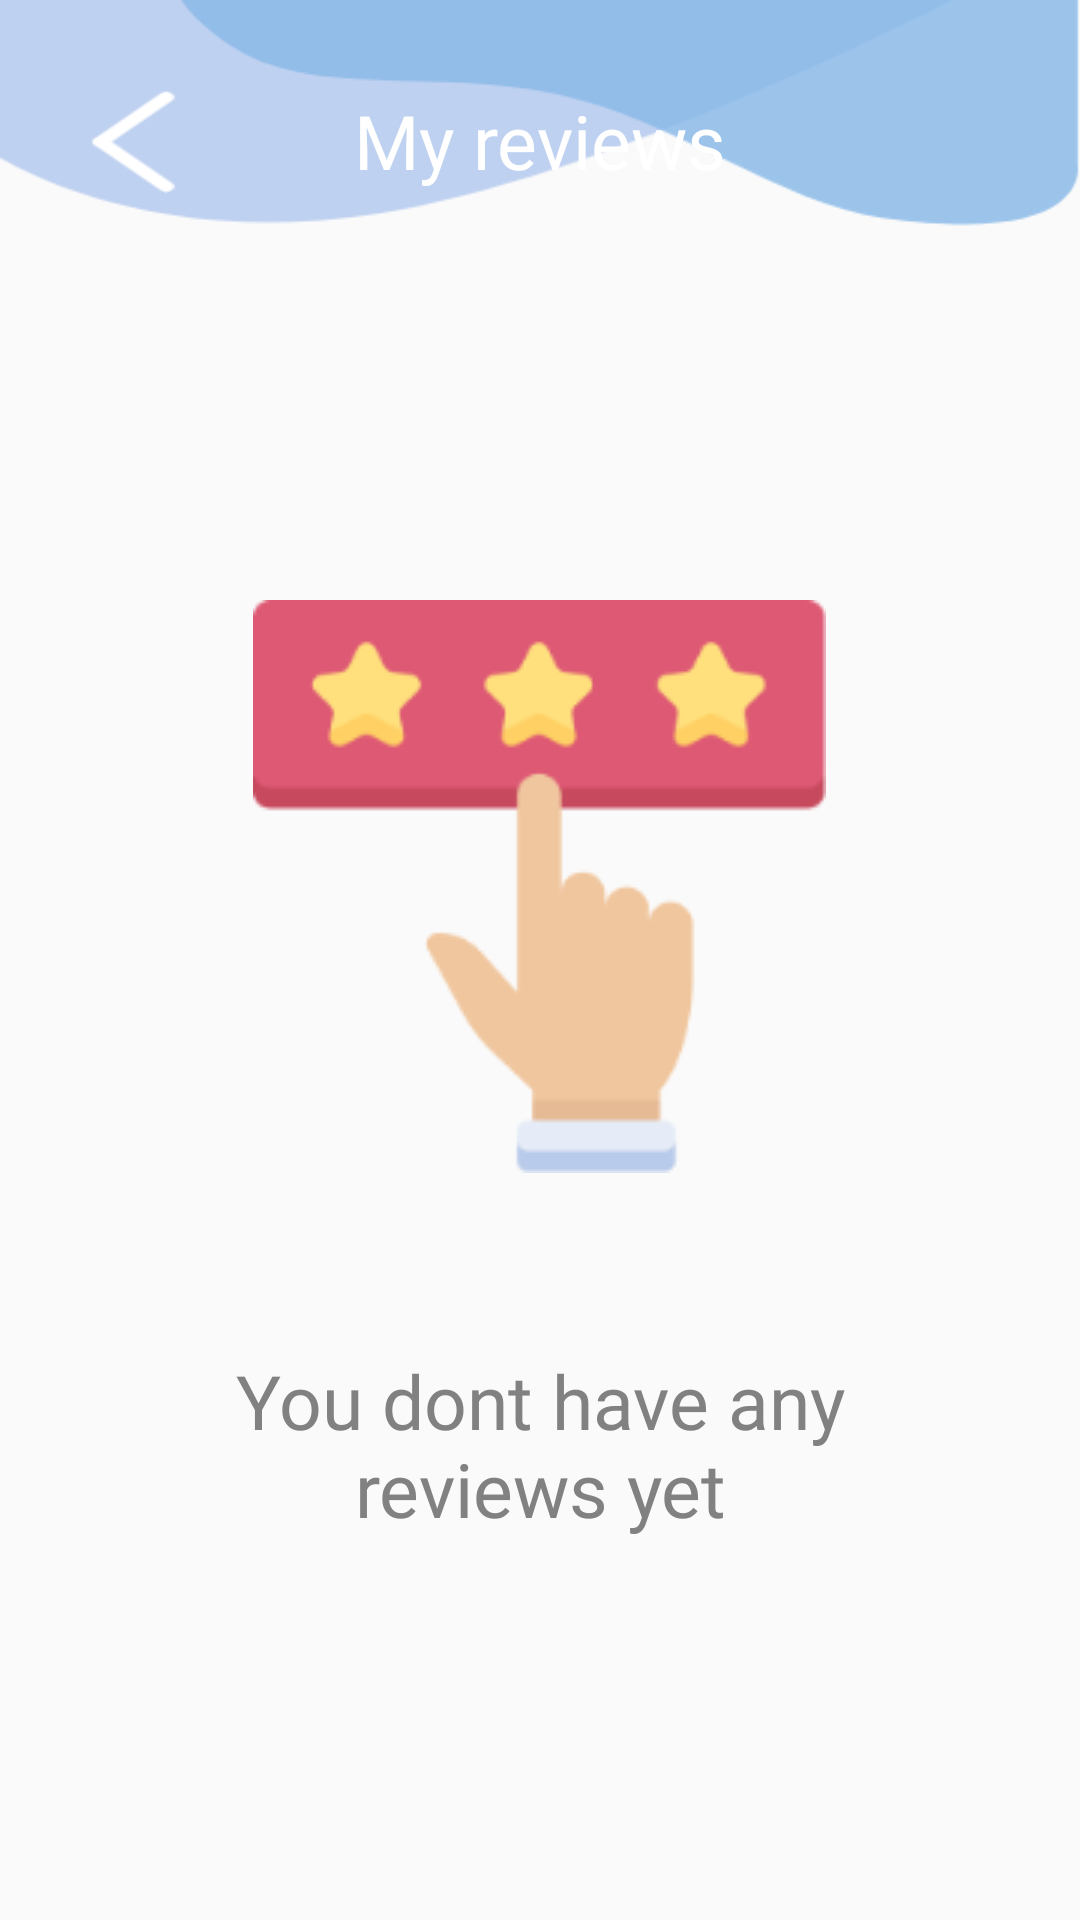

Where icons sit on this 1080×1920 app screen, as BBox(x1, y1, x2, y2):
back arrow: BBox(92, 92, 175, 192)
